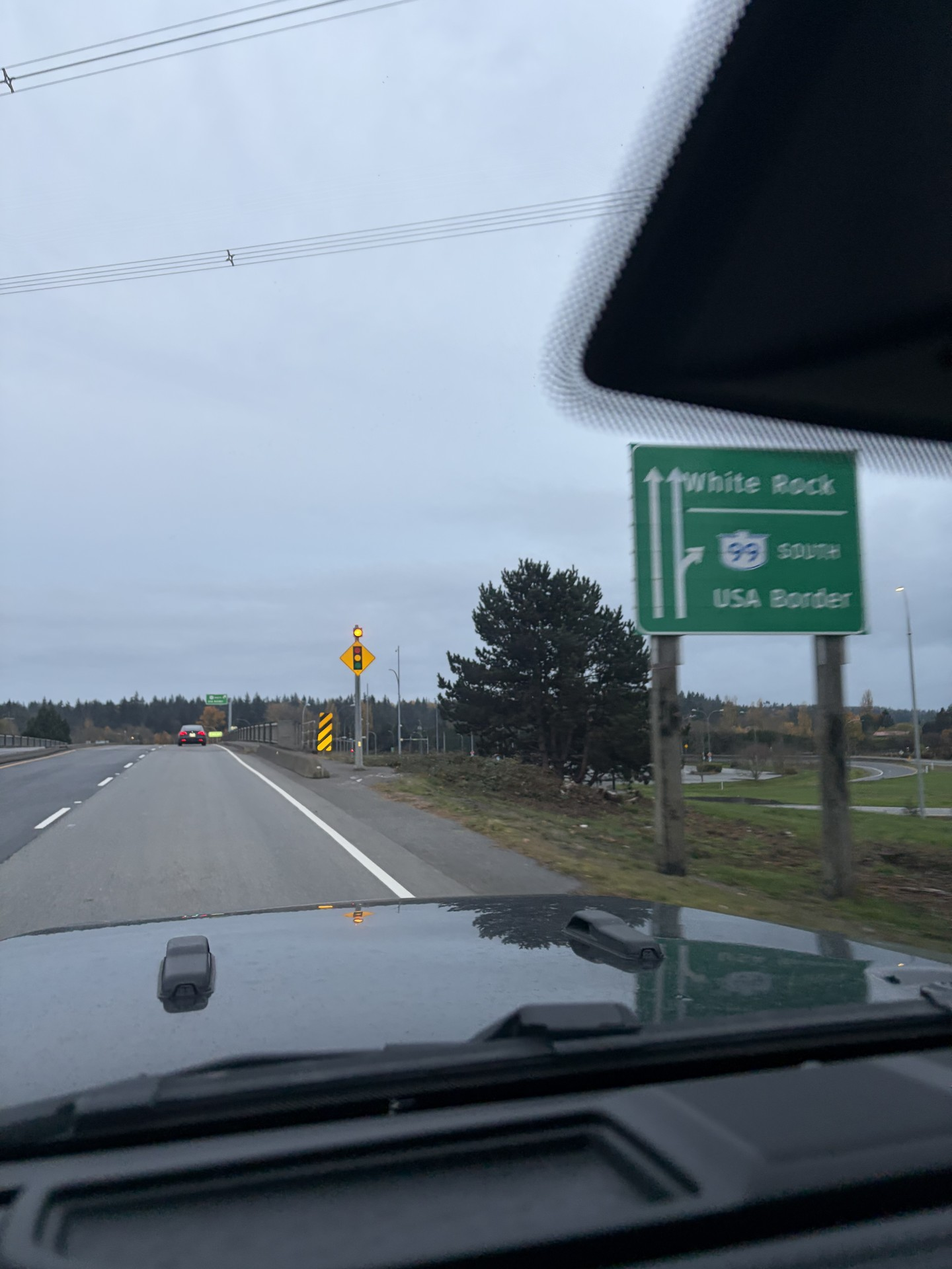signal_ahead: (321, 602, 394, 683)
